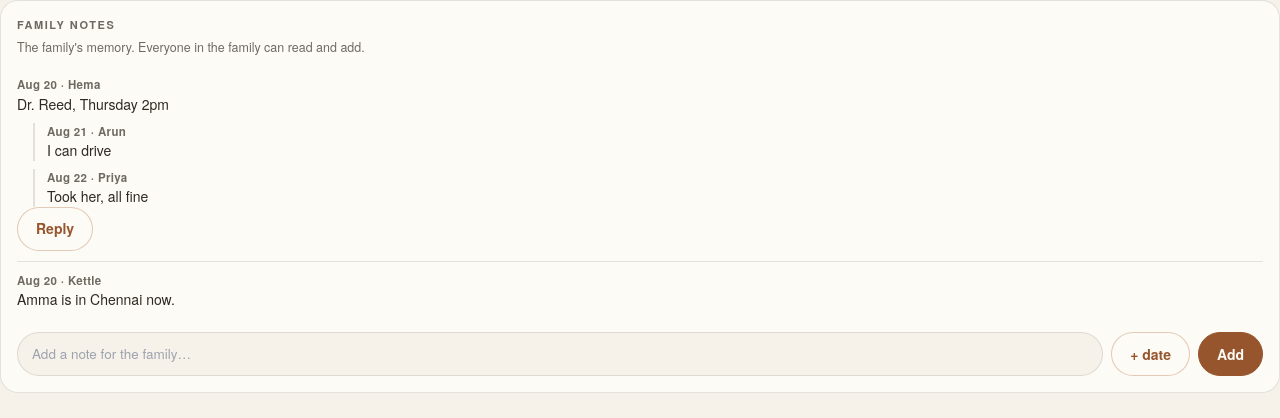
Test: the Reply link and composer › opens a one-line composer with the ruled words, and Not now closes it
Click the button with test id "reply-link": coordinates (55, 229) [17,207,93,251]
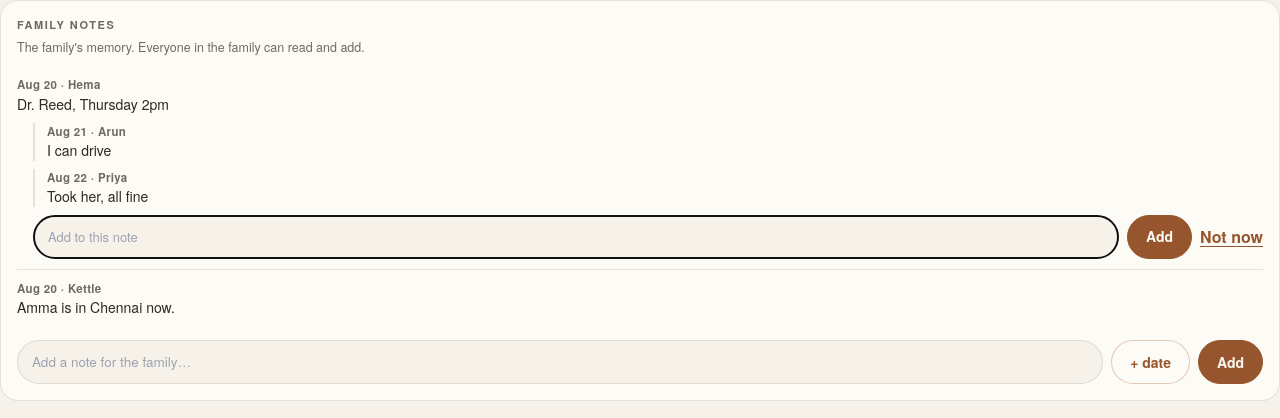
Expected: the button with test id "reply-submit" reads "Add", [1127,215,1192,259]
Expected: the button with test id "reply-cancel" reads "Not now"
Expected: the button with test id "reply-link" is gone
Click the button with test id "reply-cancel": coordinates (1232, 237) [1200,201,1263,273]
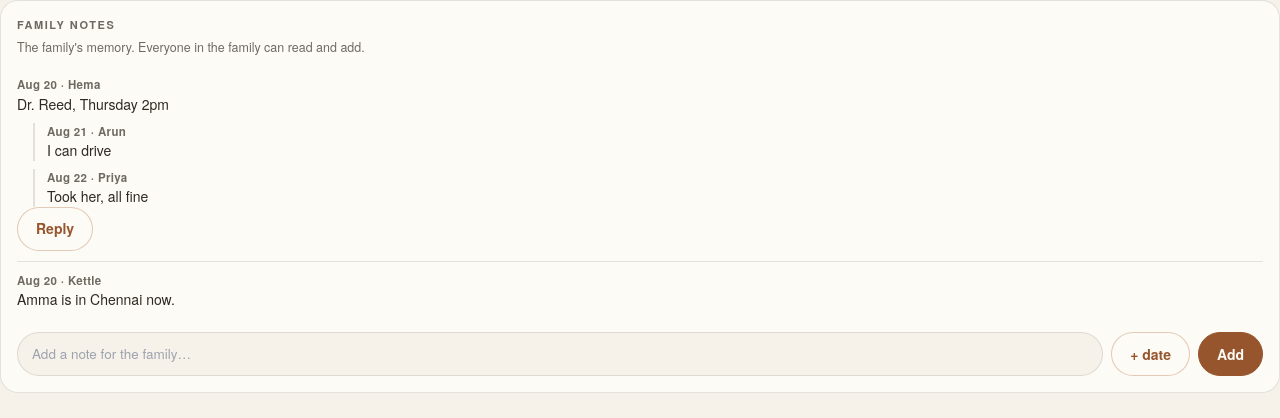
Expected: the element with test id "reply-composer" is gone
Expected: the button with test id "reply-link" is shown, [17,207,93,251]
